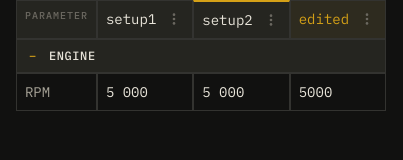
Test: ComparisonTable diff mode toggle › enables toggle when canToggleDiffMode is true (source is not first)
Click the button titled "Actions" next to "edited".
click(367, 19)  # box [357,9,377,29]
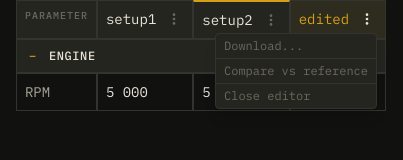
Check: the button "Compare vs reference" is enabled, box [216,61,376,81]
